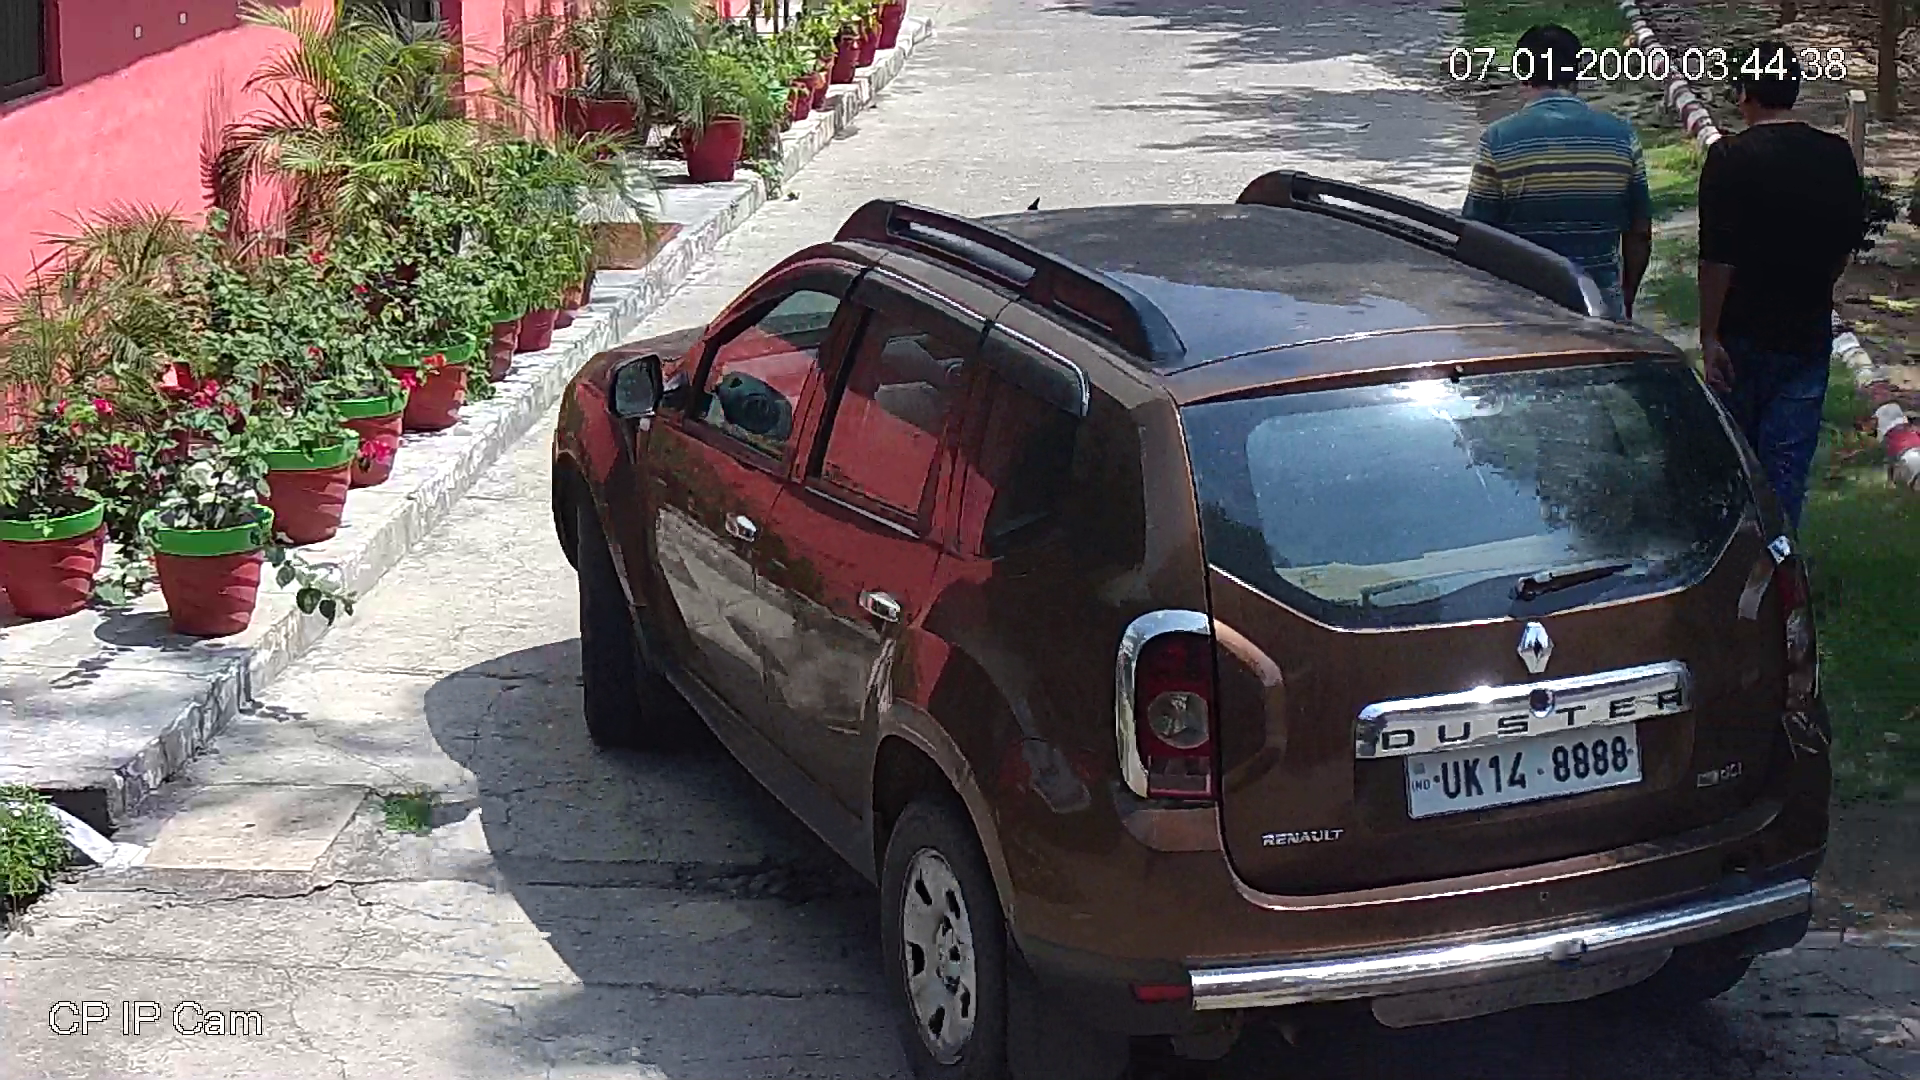plate: (1409, 722, 1639, 817)
